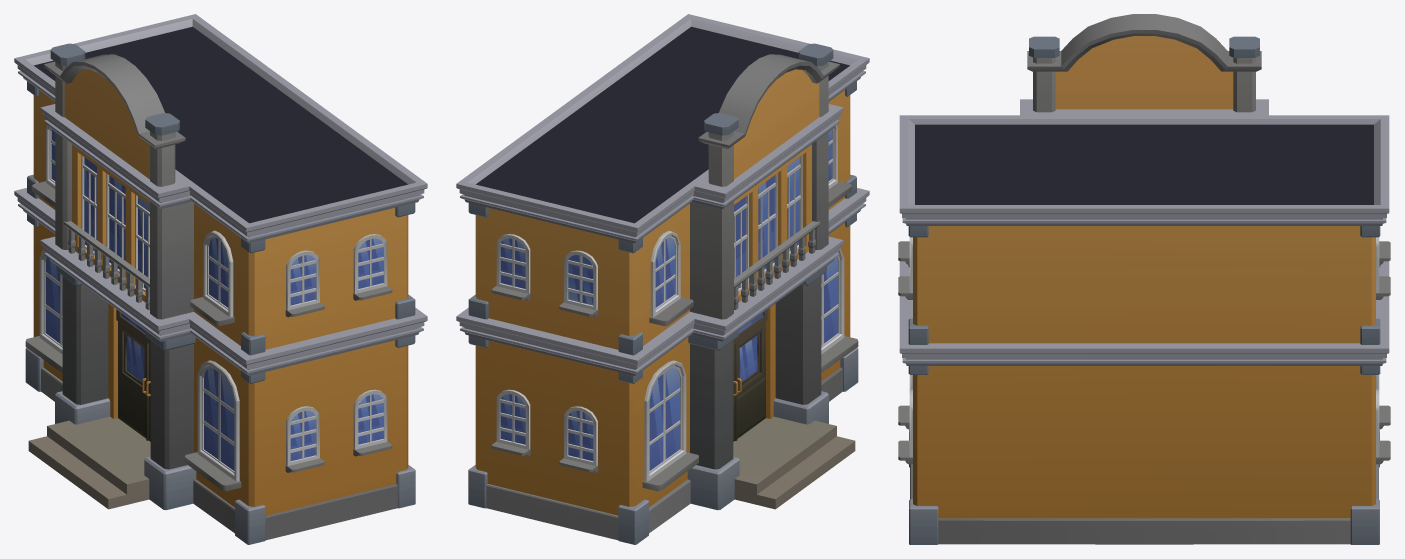
The model's file is Building_24_C.fbx.
3 renders of one model, left to right at view 1: azimuth 30°, elevation 25°; view 2: azimuth 150°, elevation 25°; view 3: azimuth 270°, elevation 25°, orthographic. The views are drawn at different scales.
Visible parts, largest first — view 1: Building_24_C; view 2: Building_24_C; view 3: Building_24_C.
Boxes of the visible parts, x1=… form: Building_24_C: x1=14, y1=14, x2=427, y2=544; Building_24_C: x1=456, y1=14, x2=869, y2=544; Building_24_C: x1=898, y1=14, x2=1390, y2=544.
Bounding box in the file's own units: 535 × 847 × 888.
